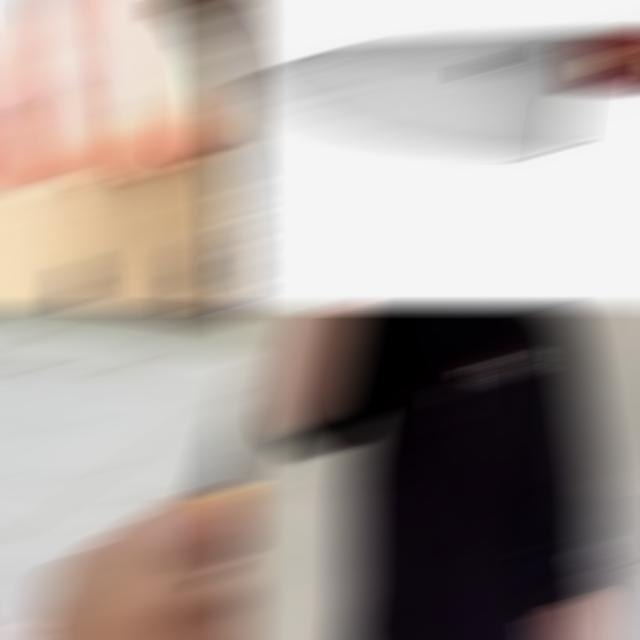Knife: (245, 33, 640, 149), (0, 151, 254, 304), (196, 373, 254, 556)
